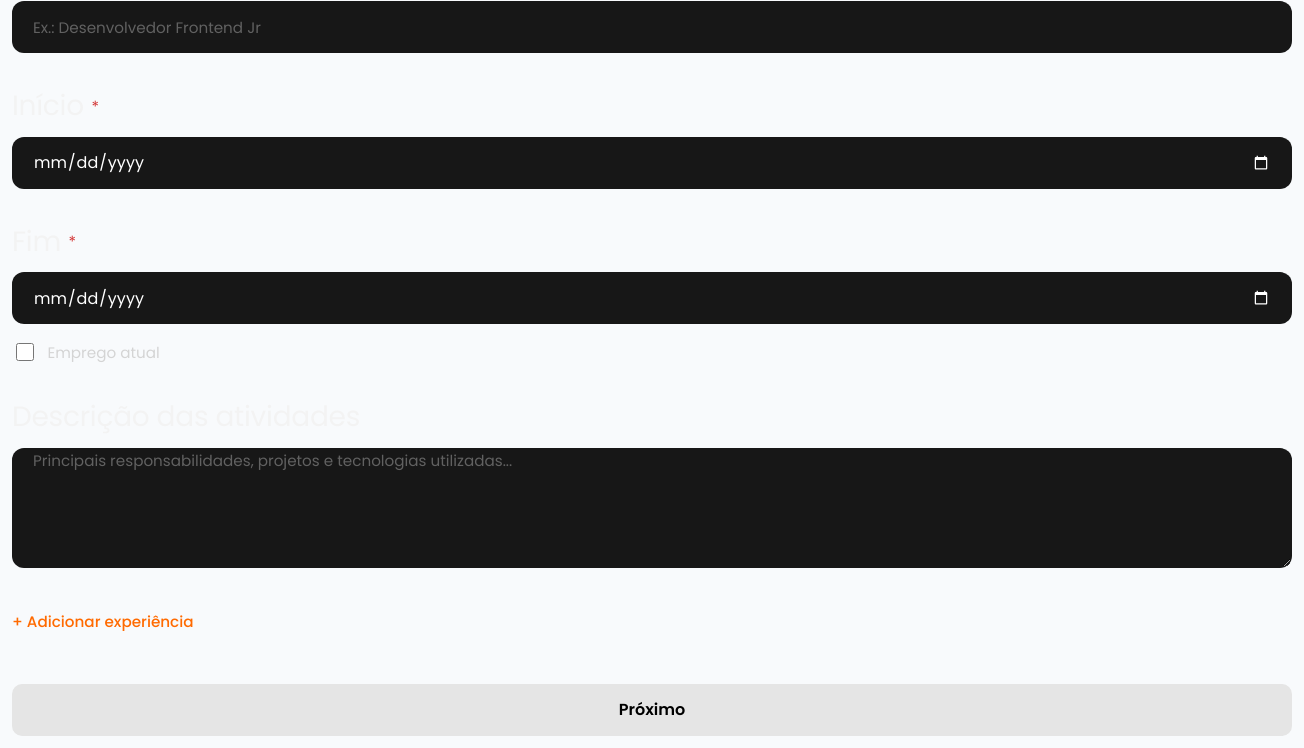
FormularioExperiencias › exibe erros de validação quando campos obrigatórios estão vazios
The image size is (1304, 748).
(page scrolled)
Click the button with aria-label "Salvar experiências" at (652, 710), box left=12, top=684, right=1292, bottom=736
(page scrolled)
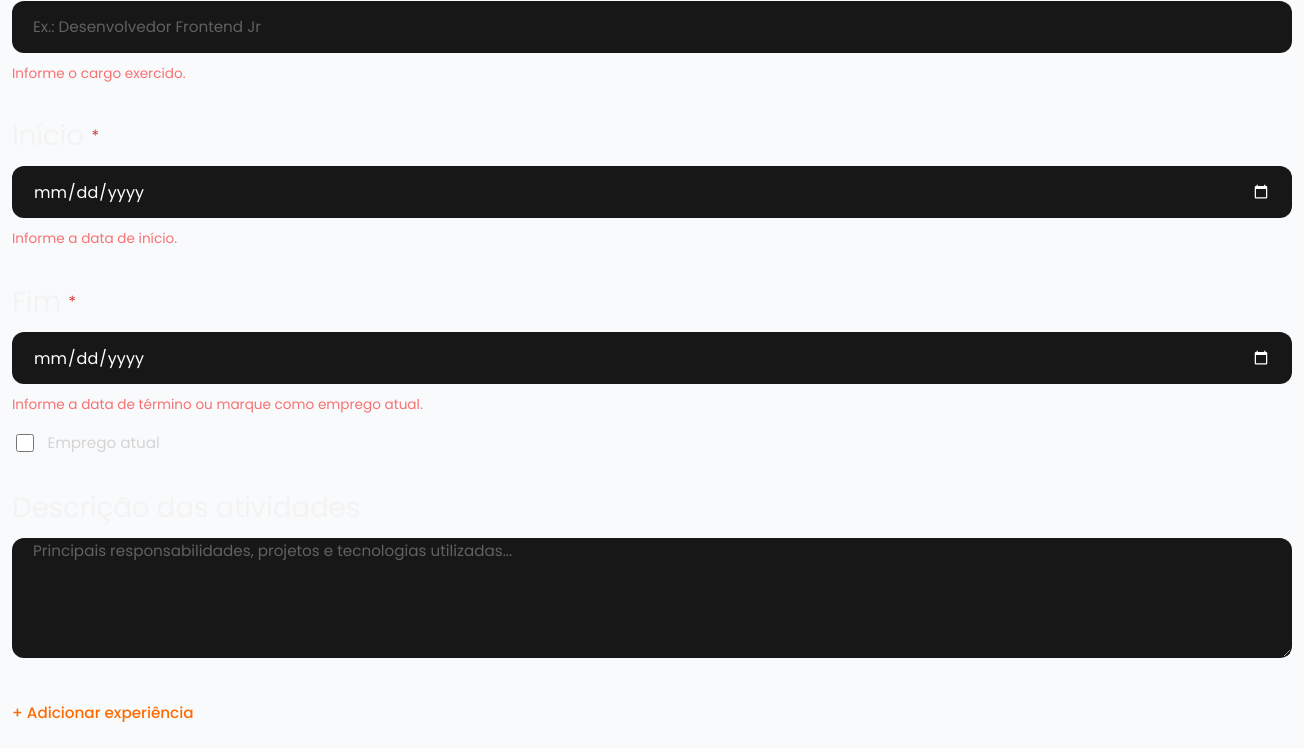
Result: the text "Informe o cargo exercido." is shown at left=12, top=64, right=186, bottom=82
Result: the text "Informe a data de início." is shown at left=12, top=229, right=177, bottom=248
